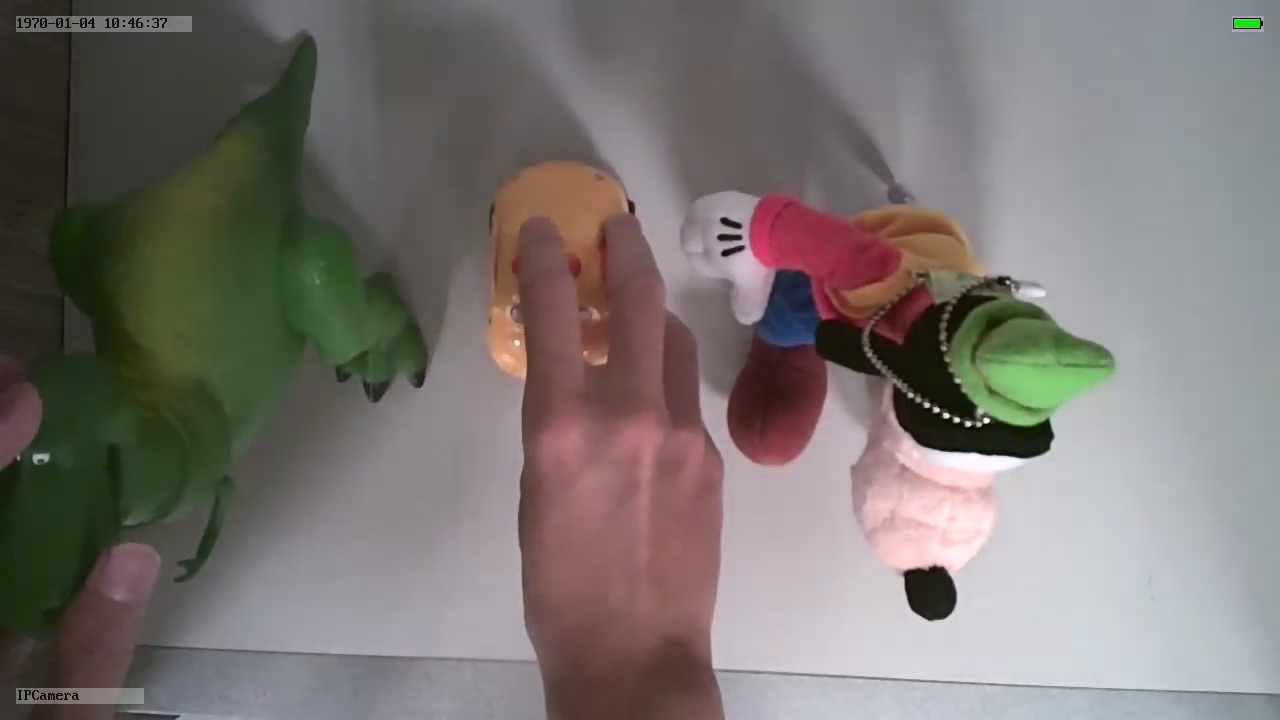goofy: (683, 189, 1118, 622)
